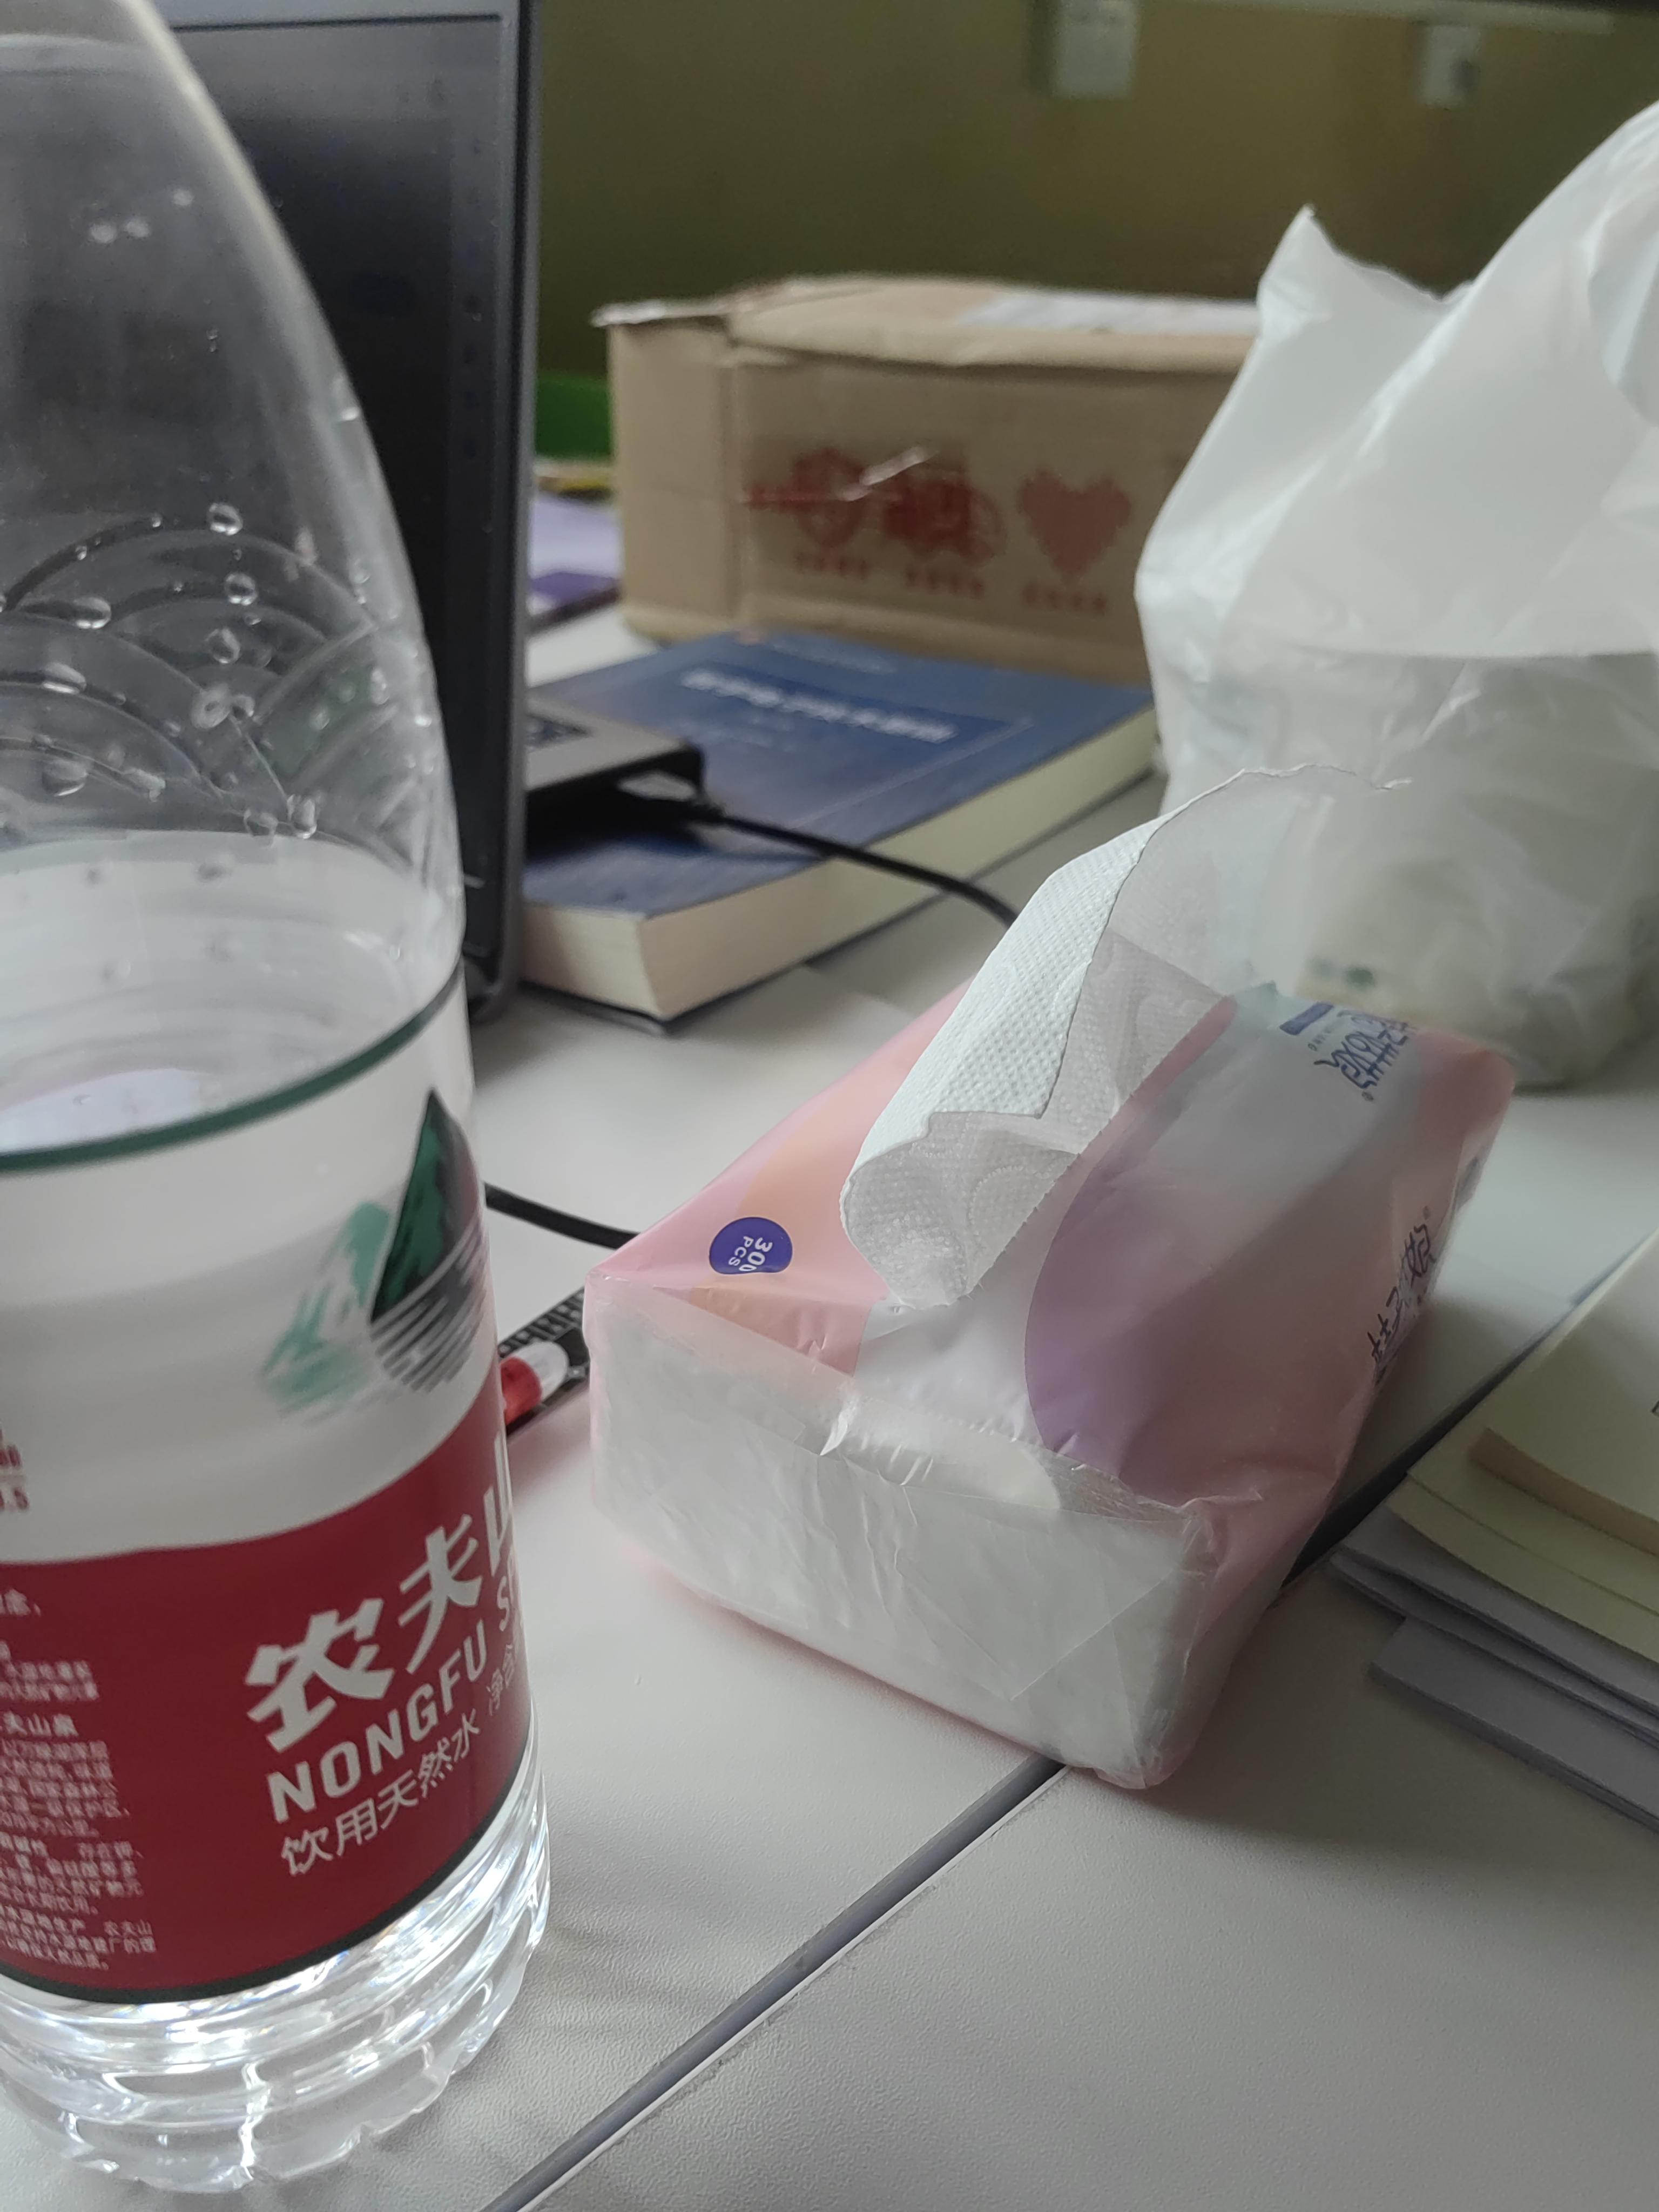BIODEGRADABLE: (17, 23, 547, 2191)
